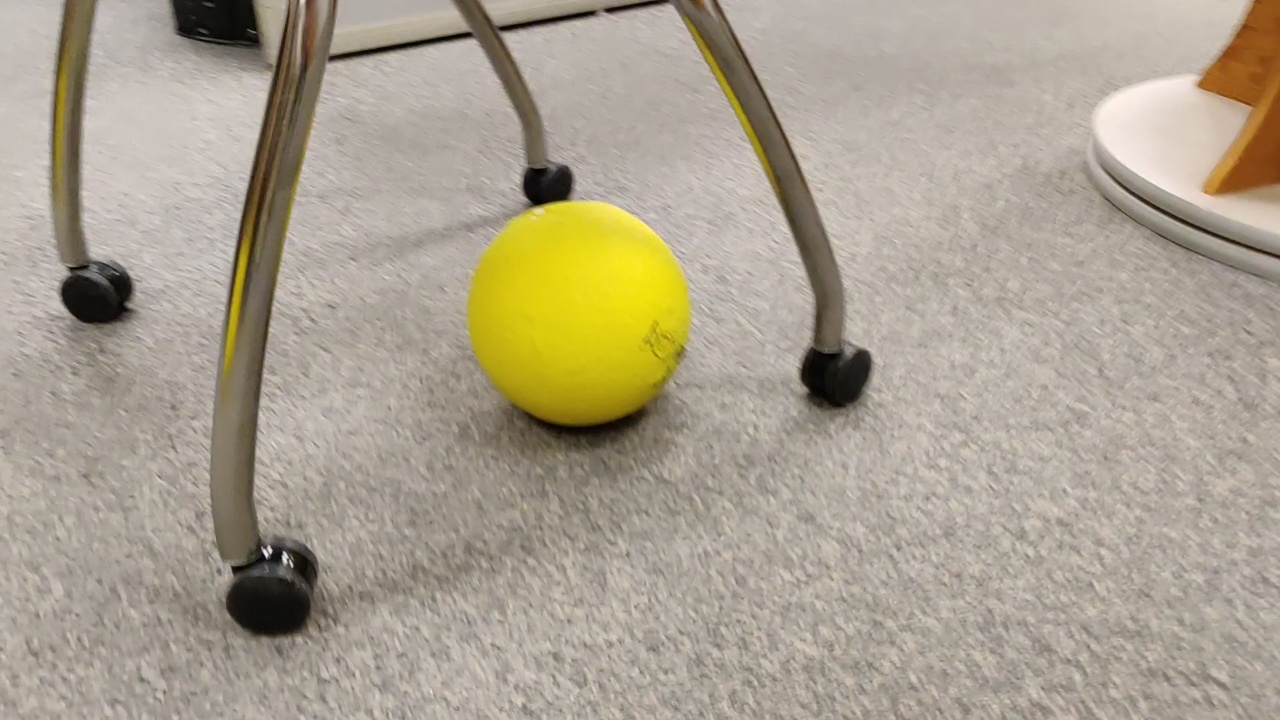Ball: (455, 203, 695, 432)
